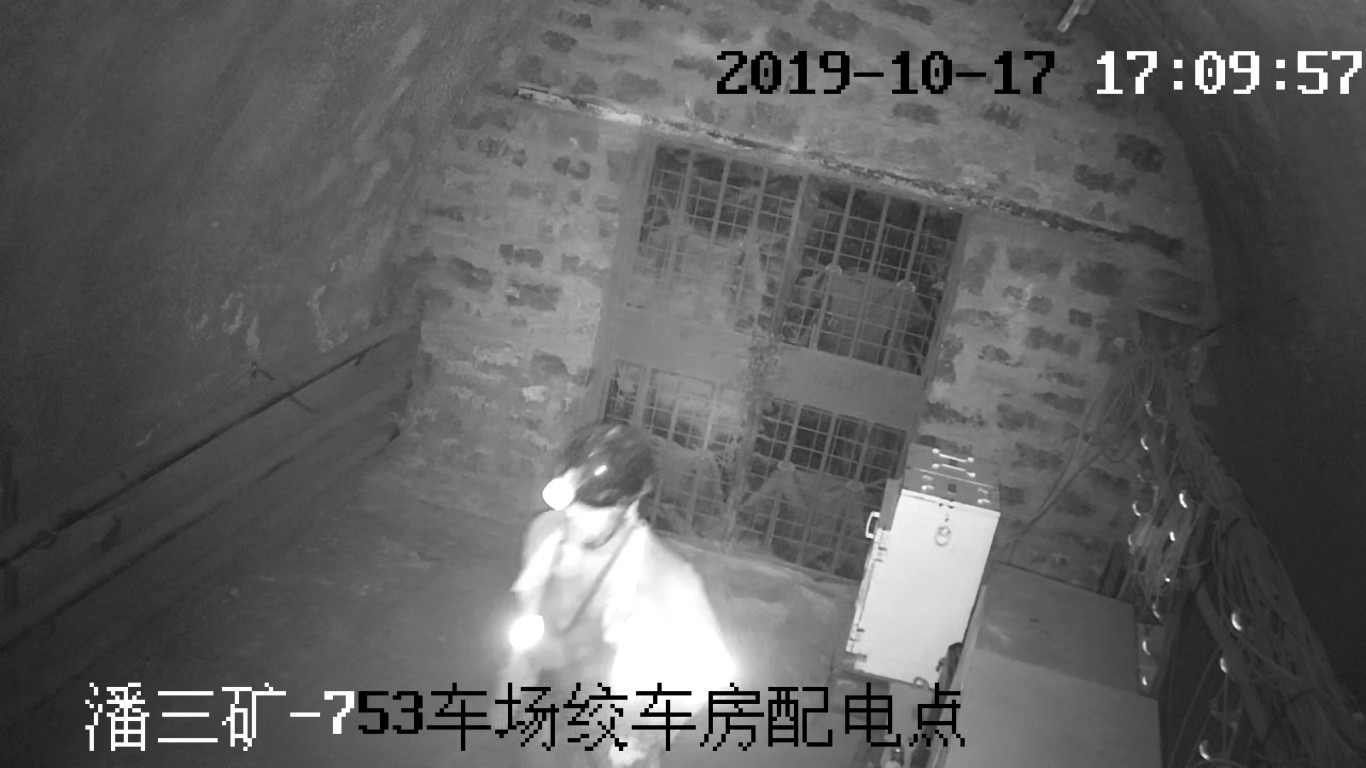helmet: (542, 422, 655, 511)
